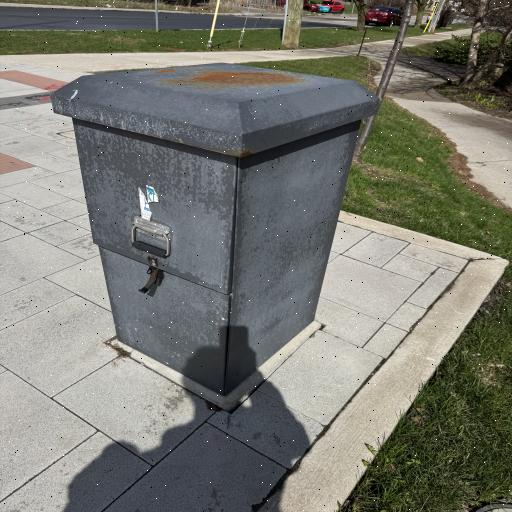Electrical Box: (47, 61, 385, 395)
